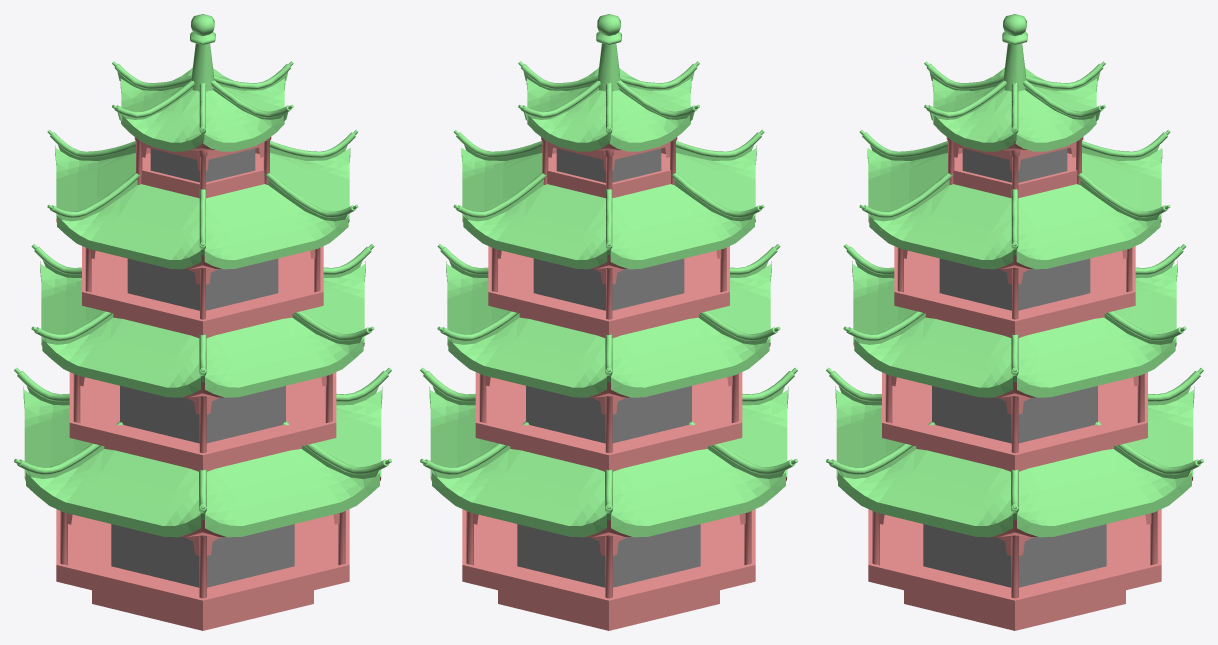
File: CHN_OOB_Building05_CMB.gltf
3 renders of one model, left to right at view 1: azimuth 30°, elevation 25°; view 2: azimuth 150°, elevation 25°; view 3: azimuth 270°, elevation 25°, orthographic.
Visible parts, largest first — view 1: CHN_OOB_Building05_CMB; view 2: CHN_OOB_Building05_CMB; view 3: CHN_OOB_Building05_CMB.
Part boxes in pixels (x1,y1,x2,y2): CHN_OOB_Building05_CMB: (14, 14, 391, 630); CHN_OOB_Building05_CMB: (420, 14, 797, 630); CHN_OOB_Building05_CMB: (826, 14, 1203, 630).
Size of the model in its own units: 35.54 by 50.58 by 30.87.
